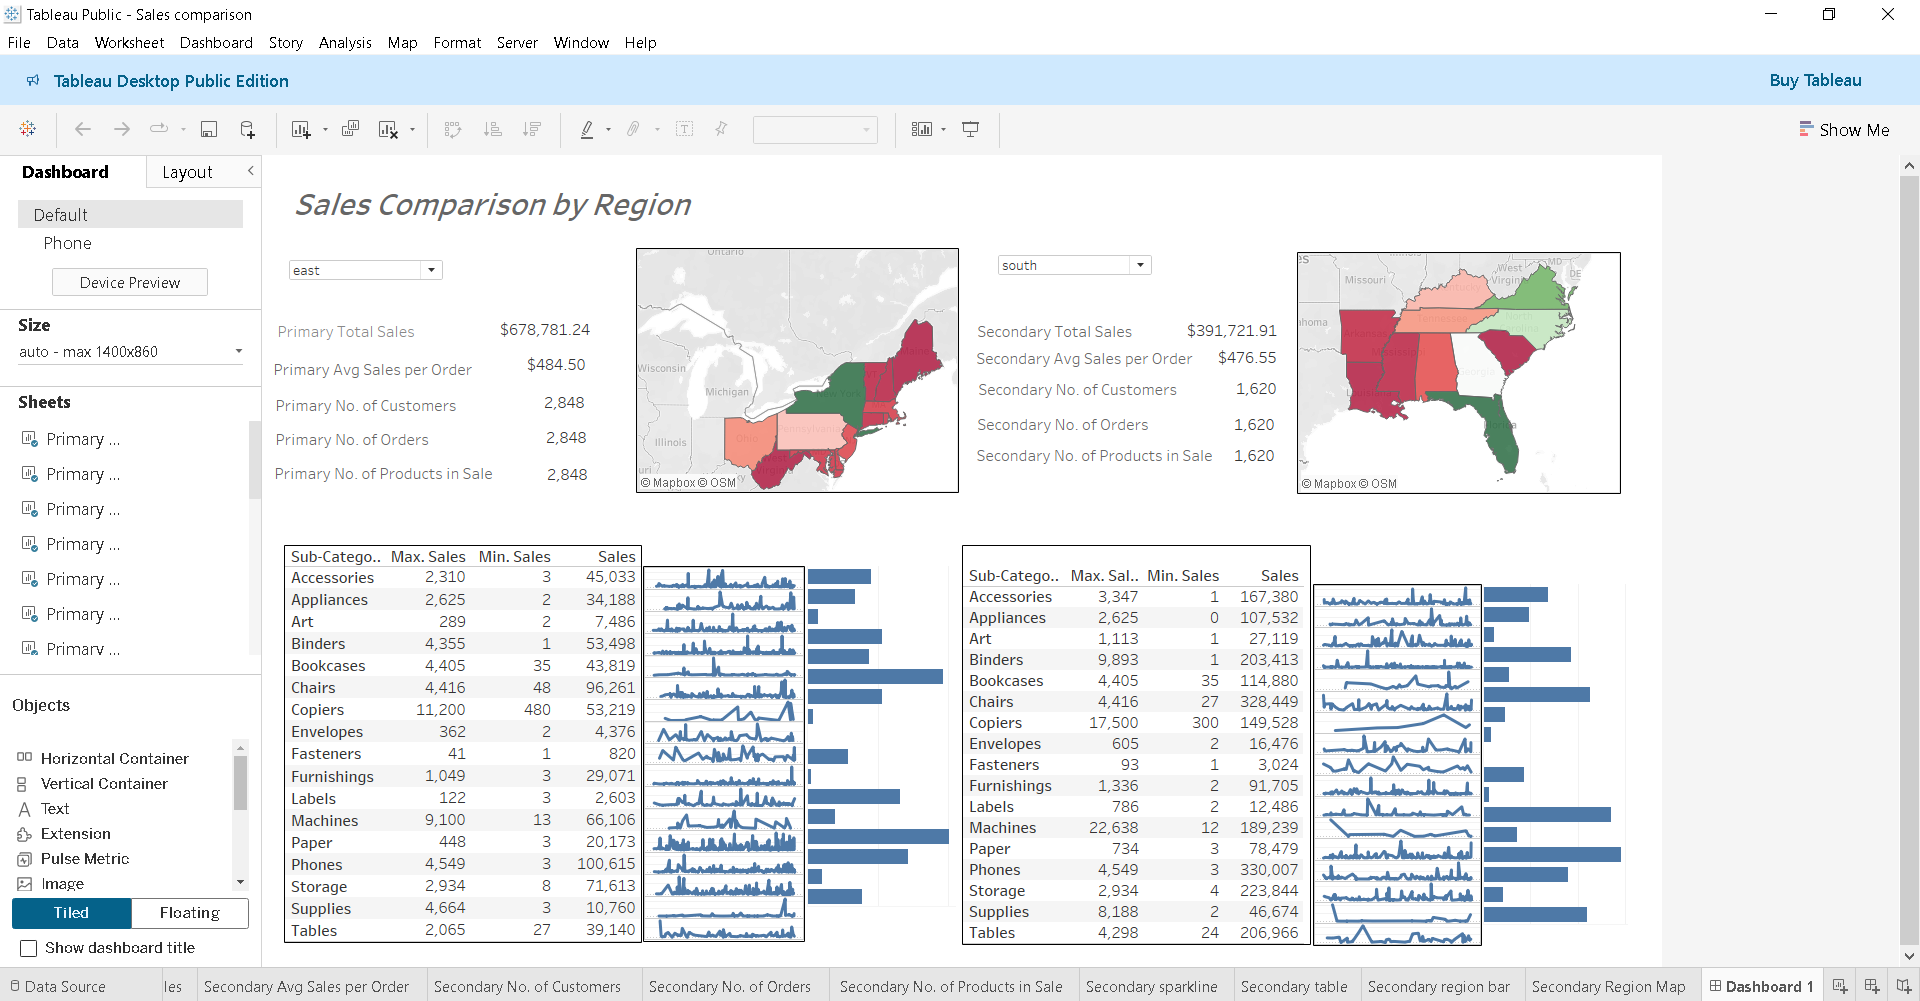

The dashboard page shown, as its layout file describes it:
{"tool":"tableau","page":{"name":"Dashboard 1","canvas":[1000,1000],"units":"permille","ordinal":0},"visuals":[{"type":"text","box":[20,11.1,297.9,96.1]},{"type":"worksheet","title":"Primary Region Map","mark":"Automatic","box":[267.1,114.5,230.7,301.7]},{"type":"parameter","param":"[Parameters].[Parameter 2]","box":[523.6,119.5,114.3,35.7]},{"type":"worksheet","title":"Secondary Region Map","mark":"Automatic","box":[739.3,119.5,231.4,298]},{"type":"parameter","param":"[Parameters].[Parameter 1]","box":[17.1,125.6,114.3,35.7]},{"type":"text","box":[8.6,186,109.3,61.6]},{"type":"worksheet","title":"Secondary Total Sales","mark":"Automatic","box":[575.7,188.4,152.1,55.4]},{"type":"worksheet","title":"Primary Total Sales","mark":"Automatic","box":[128.6,192.1,108.6,45.6]},{"type":"text","box":[508.6,194.6,121.4,44.3]},{"type":"text","box":[507.9,219.2,165.7,61.6]},{"type":"worksheet","title":"Primary Avg Sales per Order","mark":"Automatic","box":[99.3,226.6,135,64]},{"type":"worksheet","title":"Secondary Avg Sales per Order","mark":"Automatic","box":[630.7,229.1,97.1,41.9]},{"type":"text","box":[5.7,232.8,152.9,61.6]},{"type":"text","box":[509.3,257.4,152.9,61.6]},{"type":"worksheet","title":"Secondary No. of Customers","mark":"Automatic","box":[634.3,268.5,93.6,38.2]},{"type":"text","box":[7.1,277.1,140,61.6]},{"type":"worksheet","title":"Primary No. of Customers","mark":"Automatic","box":[136.4,282,97.1,46.8]},{"type":"text","box":[508.6,300.5,132.9,61.6]},{"type":"worksheet","title":"Secondary No. of Orders","mark":"Automatic","box":[660,309.1,66.4,45.6]},{"type":"text","box":[7.1,319,120.7,61.6]},{"type":"worksheet","title":"Primary No. of Orders","mark":"Automatic","box":[142.9,322.7,92.1,50.5]},{"type":"text","box":[505.7,338.7,181.4,61.6]},{"type":"worksheet","title":" Secondary No. of Products in Sale","mark":"Automatic","box":[629.3,343.6,97.1,53]},{"type":"text","box":[6.4,360.8,167.1,61.6]},{"type":"worksheet","title":"Primary No. of Products in Sale","mark":"Automatic","box":[164.3,365.8,71.4,56.6]},{"type":"worksheet","title":"Primary table ","mark":"Automatic","rows":["Sub-Category"],"box":[15.7,480.3,255.7,490.2]},{"type":"worksheet","title":"Secondary table","mark":"Automatic","rows":["Sub-Category"],"box":[500,480.3,249.3,492.6]},{"type":"worksheet","title":"Primary sparkline","mark":"Automatic","rows":["Sub-Category","Sales"],"cols":["Order Date"],"box":[272.1,506.2,115.7,463.1]},{"type":"worksheet","title":"Primary region bar","mark":"Bar","rows":["Sub-Category"],"cols":["Sales"],"box":[389.3,506.2,106.4,461.8]},{"type":"worksheet","title":"Secondary sparkline","mark":"Automatic","rows":["Sub-Category","Sales"],"cols":["Order Date"],"box":[750.7,528.3,120.7,445.8]},{"type":"worksheet","title":"Secondary region bar","mark":"Bar","rows":["Sub-Category"],"cols":["Sales"],"box":[872.1,528.3,103.6,445.8]}]}

Visuals, with their boxes on the dashboard's canvas, which has no fixed pixel size, in thousandths of its width and height (x1, y1, x2, y2). These are canvas units, not pixel positions in the 1920x1001 screenshot, which may show the page scaled, cropped or inside an application window:
text: <box>20,11,318,107</box>
"Primary Region Map" worksheet: <box>267,114,498,416</box>
parameter: <box>524,120,638,155</box>
"Secondary Region Map" worksheet: <box>739,120,971,418</box>
parameter: <box>17,126,131,161</box>
text: <box>9,186,118,248</box>
"Secondary Total Sales" worksheet: <box>576,188,728,244</box>
"Primary Total Sales" worksheet: <box>129,192,237,238</box>
text: <box>509,195,630,239</box>
text: <box>508,219,674,281</box>
"Primary Avg Sales per Order" worksheet: <box>99,227,234,291</box>
"Secondary Avg Sales per Order" worksheet: <box>631,229,728,271</box>
text: <box>6,233,159,294</box>
text: <box>509,257,662,319</box>
"Secondary No. of Customers" worksheet: <box>634,268,728,307</box>
text: <box>7,277,147,339</box>
"Primary No. of Customers" worksheet: <box>136,282,234,329</box>
text: <box>509,300,642,362</box>
"Secondary No. of Orders" worksheet: <box>660,309,726,355</box>
text: <box>7,319,128,381</box>
"Primary No. of Orders" worksheet: <box>143,323,235,373</box>
text: <box>506,339,687,400</box>
" Secondary No. of Products in Sale" worksheet: <box>629,344,726,397</box>
text: <box>6,361,174,422</box>
"Primary No. of Products in Sale" worksheet: <box>164,366,236,422</box>
"Primary table " worksheet: <box>16,480,271,970</box>
"Secondary table" worksheet: <box>500,480,749,973</box>
"Primary sparkline" worksheet: <box>272,506,388,969</box>
"Primary region bar" worksheet (Bar marks): <box>389,506,496,968</box>
"Secondary sparkline" worksheet: <box>751,528,871,974</box>
"Secondary region bar" worksheet (Bar marks): <box>872,528,976,974</box>
